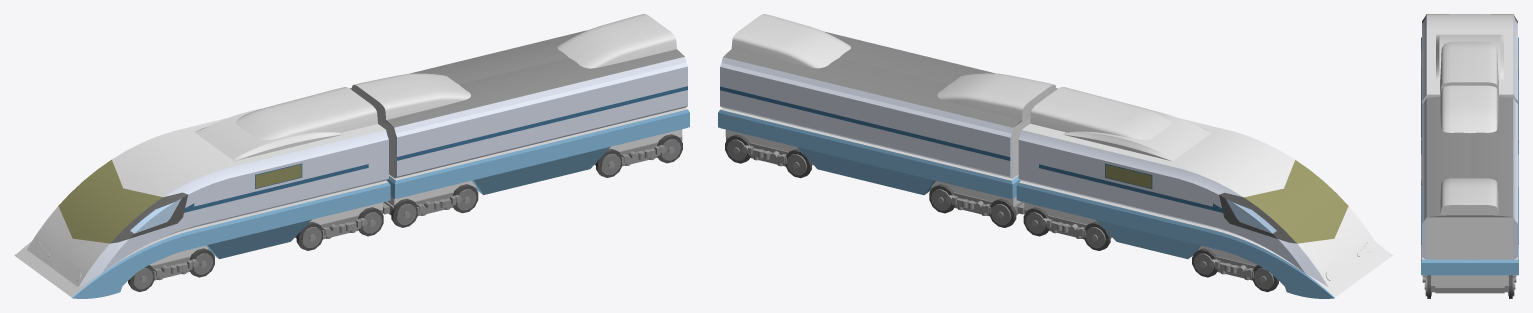
The picture shows the model from 3 angles, left to right: view 1: azimuth 30°, elevation 25°; view 2: azimuth 150°, elevation 25°; view 3: azimuth 270°, elevation 25°; orthographic projection. The views are drawn at different scales.
Parts seen in each view (by area): view 1: Group_009, Group_023, Group_012, Group_024, Group#13_001, Group#2_001, Group_001, Group#2_005, Group_005, Group_007, Group#13_003, Group_020 (+14 smaller); view 2: Group_015, Group_028, Group_018, Group_029, Group#13_003, Group#2_005, Group_001, Group#2_001, Group_005, Group_007, Group#13_001, Group_025 (+14 smaller); view 3: Group#13_003, Group#13_001, Group_007, Group_001, Group_005, Group#2_005, Group#2_001, Group#8_001, Group_018, Group_012, Group_004, Group_015 (+7 smaller).
Boxes of the visible parts, bbox=[...] form: Group_009: bbox=[394, 57, 687, 178]; Group_023: bbox=[79, 129, 388, 286]; Group_012: bbox=[386, 109, 689, 198]; Group_024: bbox=[72, 182, 390, 298]; Group#13_001: bbox=[377, 49, 684, 177]; Group#2_001: bbox=[52, 124, 385, 286]; Group_001: bbox=[235, 87, 377, 139]; Group#2_005: bbox=[27, 118, 227, 268]; Group_005: bbox=[557, 14, 676, 68]; Group_007: bbox=[352, 73, 470, 124]; Group#13_003: bbox=[350, 30, 586, 89]; Group_020: bbox=[73, 188, 162, 243]; Group_015: bbox=[720, 57, 1013, 178]; Group_028: bbox=[1018, 130, 1328, 286]; Group_018: bbox=[718, 110, 1020, 199]; Group_029: bbox=[1016, 182, 1334, 298]; Group#13_003: bbox=[723, 49, 1030, 177]; Group#2_005: bbox=[1022, 123, 1354, 286]; Group_001: bbox=[1030, 87, 1172, 139]; Group#2_001: bbox=[1179, 118, 1379, 268]; Group_005: bbox=[731, 14, 850, 68]; Group_007: bbox=[937, 73, 1056, 124]; Group#13_001: bbox=[824, 31, 1057, 89]; Group_025: bbox=[1244, 188, 1333, 243]; Group#13_003: bbox=[1470, 96, 1513, 259]; Group#13_001: bbox=[1426, 96, 1469, 259]; Group_007: bbox=[1440, 85, 1498, 133]; Group_001: bbox=[1440, 41, 1498, 94]; Group_005: bbox=[1440, 178, 1498, 215]; Group#2_005: bbox=[1470, 14, 1513, 97]; Group#2_001: bbox=[1426, 14, 1469, 97]; Group#8_001: bbox=[1422, 275, 1516, 298]; Group_018: bbox=[1470, 140, 1518, 275]; Group_012: bbox=[1421, 140, 1469, 275]; Group_004: bbox=[1431, 275, 1508, 285]; Group_015: bbox=[1513, 98, 1517, 259].
Bounding box in the file's own units: 8243 × 1493 × 1343.
